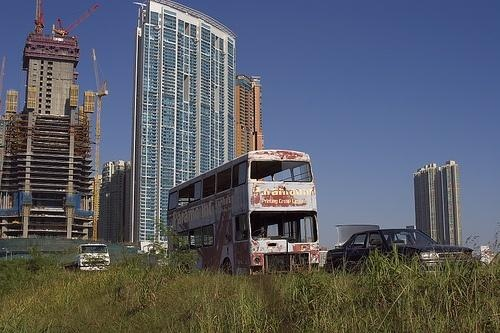bus: (167, 149, 321, 276)
car: (327, 227, 474, 269)
